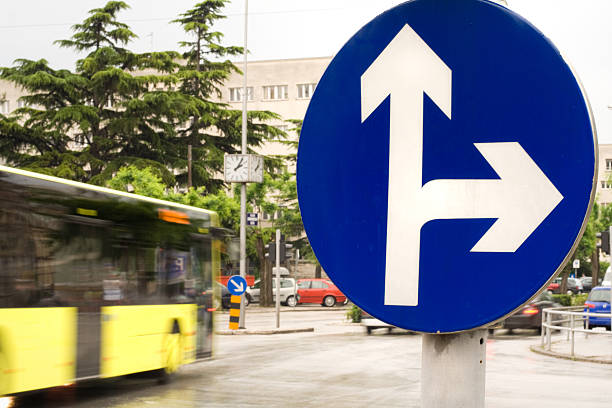ileri_veya_saga: (291, 2, 602, 338)
otobus: (0, 144, 246, 402)
